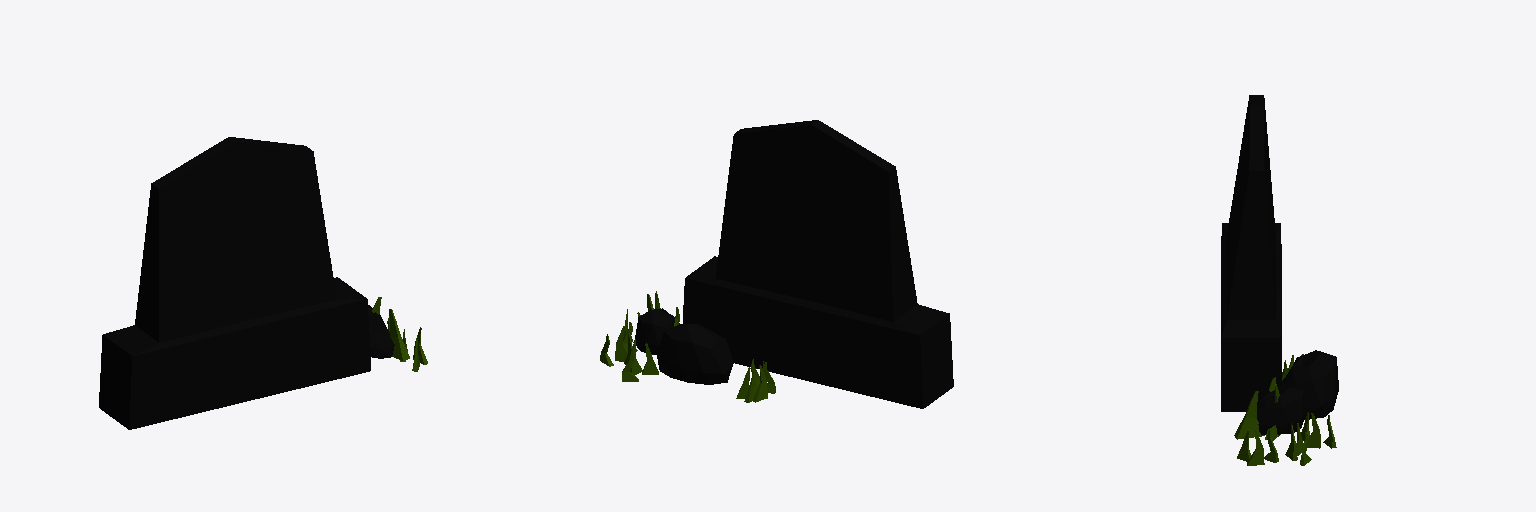
Rendered from cemiterio1.obj.
3 views of the same model, side by side, from view 1: azimuth 30°, elevation 25°; view 2: azimuth 150°, elevation 25°; view 3: azimuth 270°, elevation 25° (orthographic).
Visible parts, largest first — view 1: Cube.007_Cube.010, caillou2_Icosphere.000, Cube.010; view 2: Cube.007_Cube.010, caillou2_Icosphere.001, caillou2_Icosphere.000, Cube.008, Cube.000, Cube.009_Cube.010; view 3: Cube.007_Cube.010, caillou2_Icosphere.001, caillou2_Icosphere.000, Cube.010, Cube.011, Cube.008, Cube.009_Cube.010.
Part boxes in pixels (x1,y1,x2,y2): Cube.007_Cube.010: (99, 137, 370, 429); caillou2_Icosphere.000: (368, 305, 394, 358); Cube.010: (372, 297, 409, 360); Cube.007_Cube.010: (683, 120, 953, 408); caillou2_Icosphere.001: (657, 324, 733, 384); caillou2_Icosphere.000: (635, 308, 679, 354); Cube.008: (622, 339, 658, 381); Cube.000: (736, 362, 775, 402); Cube.009_Cube.010: (600, 326, 632, 366); Cube.007_Cube.010: (1221, 95, 1281, 411); caillou2_Icosphere.001: (1282, 350, 1338, 419); caillou2_Icosphere.000: (1257, 386, 1305, 434); Cube.010: (1234, 377, 1280, 440); Cube.011: (1237, 430, 1278, 465); Cube.008: (1301, 412, 1336, 448); Cube.009_Cube.010: (1285, 423, 1311, 465).
Bounding box in the file's own units: 3.03 × 2.48 × 0.9936.